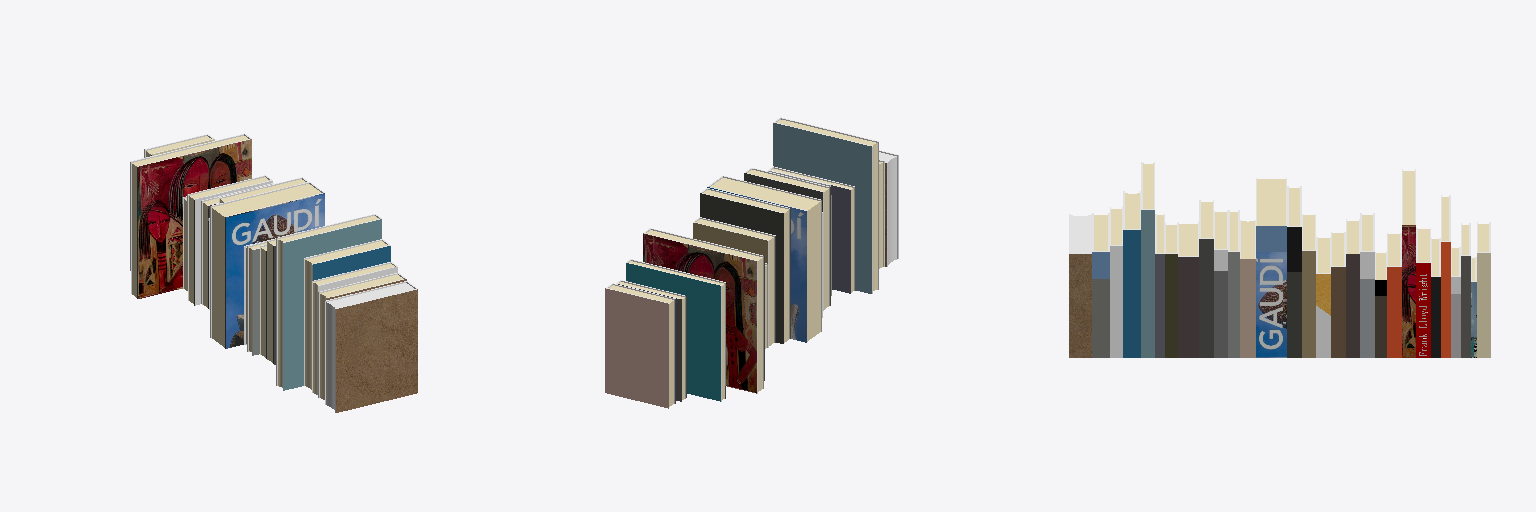
The picture shows the model from 3 angles: view 1: azimuth 30°, elevation 25°; view 2: azimuth 150°, elevation 25°; view 3: azimuth 270°, elevation 25°; orthographic projection.
Visible parts, largest first — view 1: Mesh1_Component_16_1_Model.002; view 2: Mesh1_Component_16_1_Model.002; view 3: Mesh1_Component_16_1_Model.002.
Part boxes in pixels (x1,y1,x2,y2): Mesh1_Component_16_1_Model.002: (130,134,417,412); Mesh1_Component_16_1_Model.002: (605,117,898,408); Mesh1_Component_16_1_Model.002: (1069,162,1490,357).
Bounding box in the file's own units: 0.8176 × 1 × 2.59.
Materials: 39 (6 with a texture image).